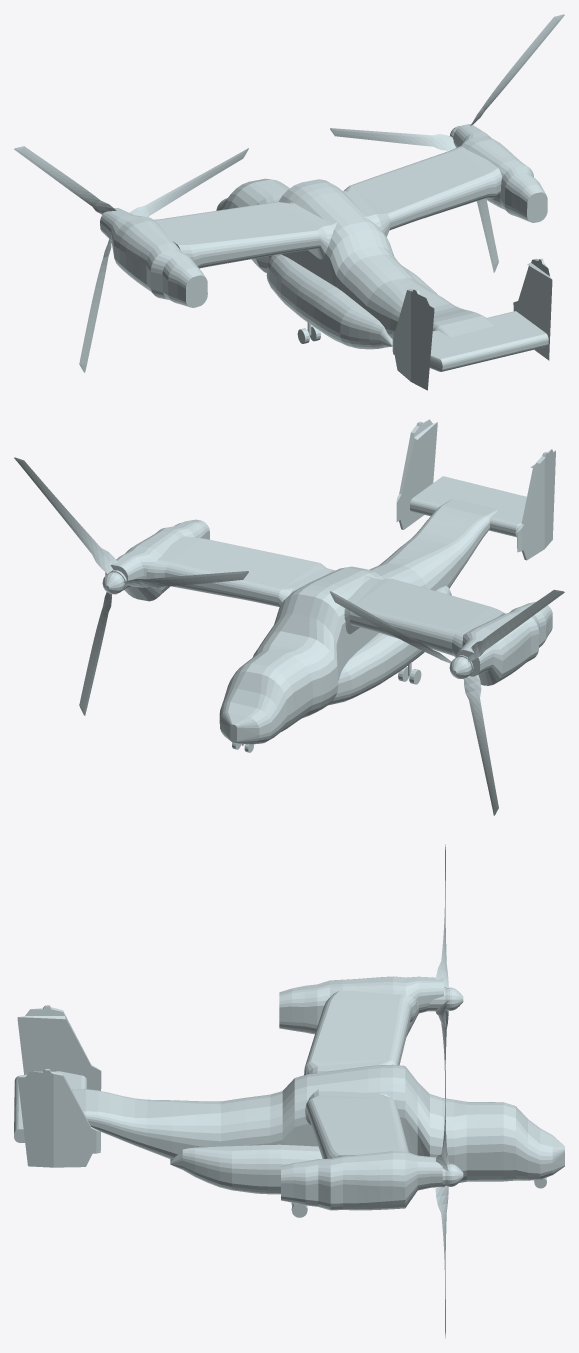
3 renders of one model, top to bottom at view 1: azimuth 30°, elevation 25°; view 2: azimuth 150°, elevation 25°; view 3: azimuth 270°, elevation 25°, orthographic. The views are drawn at different scales.
Parts seen in each view (by area): view 1: Aircraft visual hull, Rotor 1791655414183-0uhp888mct2m-mirror, Rotor 1791655414183-0uhp888mct2m; view 2: Aircraft visual hull, Rotor 1791655414183-0uhp888mct2m, Rotor 1791655414183-0uhp888mct2m-mirror; view 3: Aircraft visual hull, Rotor 1791655414183-0uhp888mct2m-mirror, Rotor 1791655414183-0uhp888mct2m.
Part boxes in pixels (x1,y1,x2,y2): Aircraft visual hull: [100, 124, 552, 390]; Rotor 1791655414183-0uhp888mct2m-mirror: [14, 146, 248, 372]; Rotor 1791655414183-0uhp888mct2m: [330, 14, 564, 272]; Aircraft visual hull: [105, 419, 555, 744]; Rotor 1791655414183-0uhp888mct2m: [14, 457, 248, 715]; Rotor 1791655414183-0uhp888mct2m-mirror: [330, 589, 564, 815]; Aircraft visual hull: [14, 976, 564, 1210]; Rotor 1791655414183-0uhp888mct2m-mirror: [427, 844, 463, 1097]; Rotor 1791655414183-0uhp888mct2m: [435, 1064, 463, 1338].
Size of the model in its own units: 20.17 by 8.45 by 16.8.
